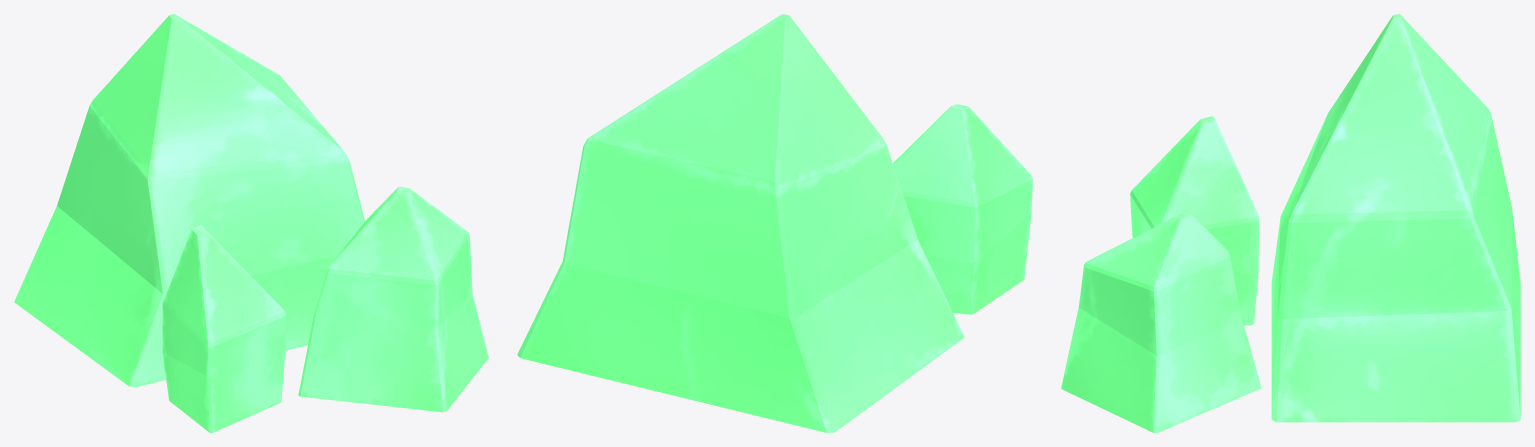
Rendered from Gem_4.fbx.
3 views of the same model, side by side, from view 1: azimuth 30°, elevation 25°; view 2: azimuth 150°, elevation 25°; view 3: azimuth 270°, elevation 25° (orthographic). The views are drawn at different scales.
Parts seen in each view (by area): view 1: gem.004; view 2: gem.004; view 3: gem.004.
Part boxes in pixels (left/top/right/bottom): gem.004: left=14, top=14, right=488, bottom=432; gem.004: left=517, top=14, right=1032, bottom=432; gem.004: left=1061, top=14, right=1520, bottom=432.
Size of the model in its own units: 1.03 by 1 by 1.31.
1 material, 1 textured.
